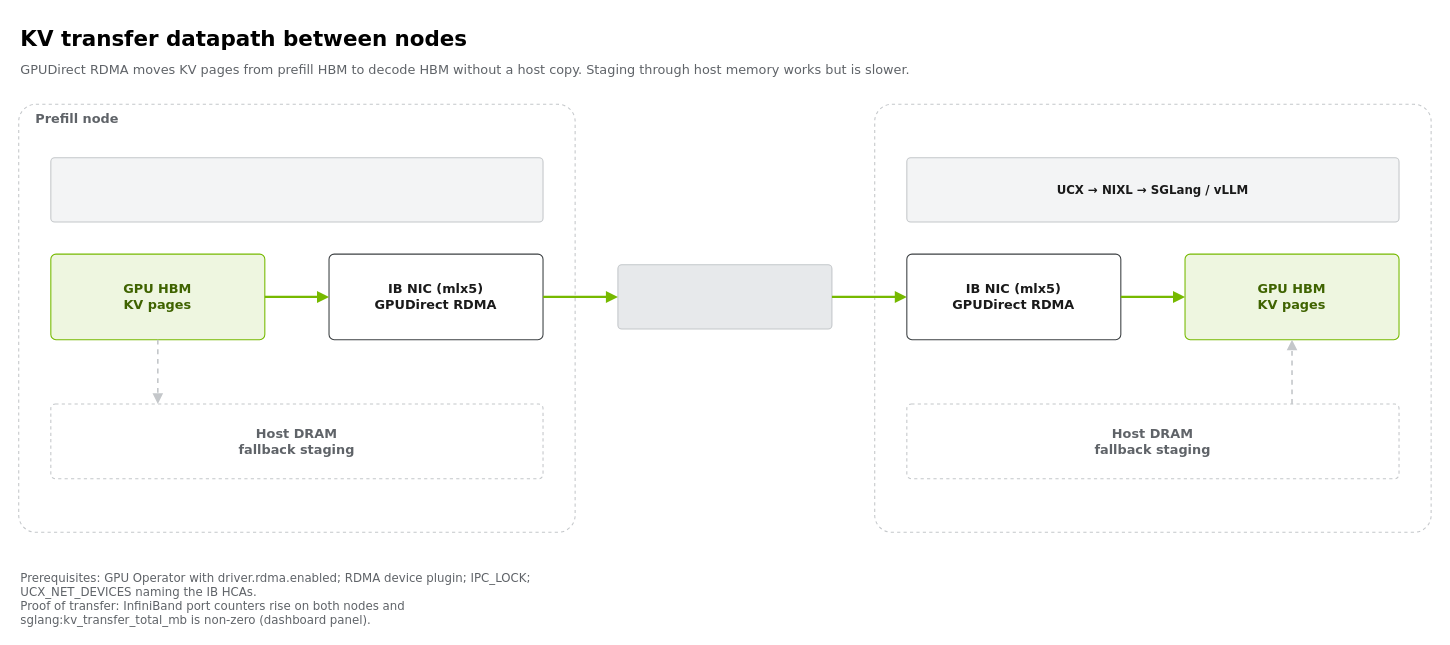
Image size: 1450x645. Some labels were removed from this diagram. The box of each missing label's shape, as (x1, y1, x2, y2) in pixels:
Decode node: (874, 103, 1431, 532)
InfiniBand switch: (617, 264, 832, 329)
SGLang / vLLM → NIXL → UCX (rc, cuda_copy, cuda_ipc): (50, 157, 543, 222)
